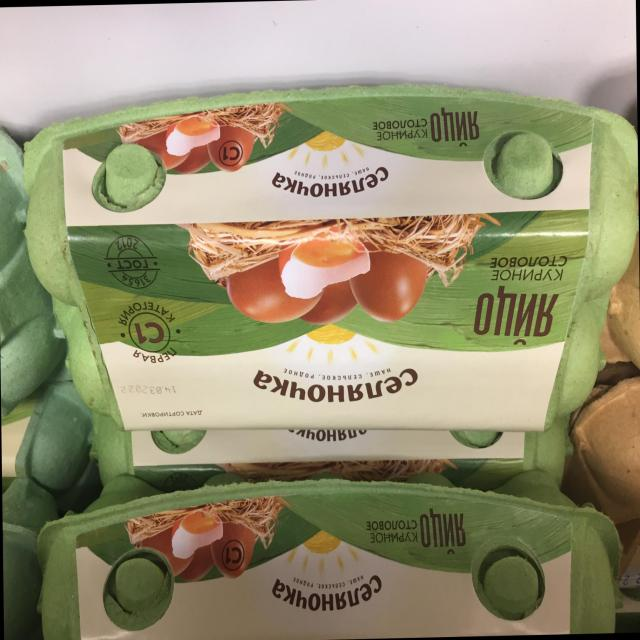organic waste: (10, 63, 640, 449), (31, 458, 634, 640)
